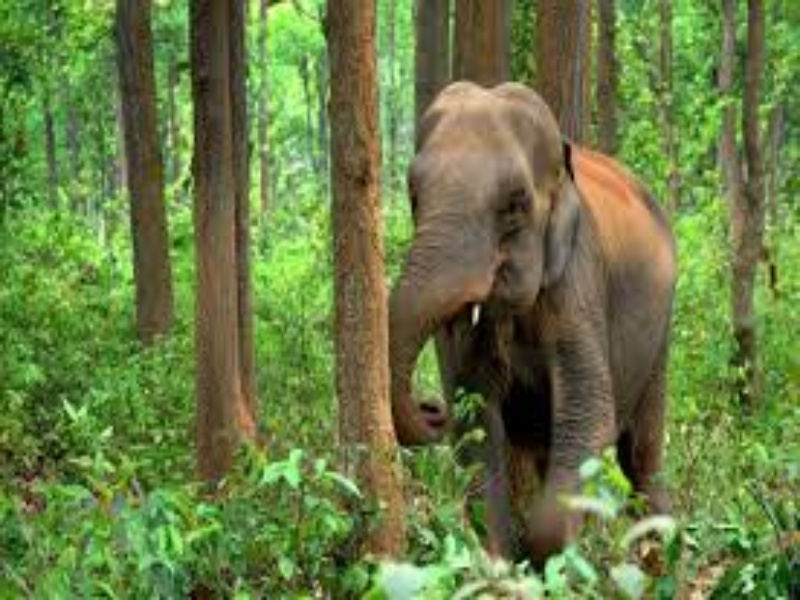elephant: (385, 57, 741, 518)
